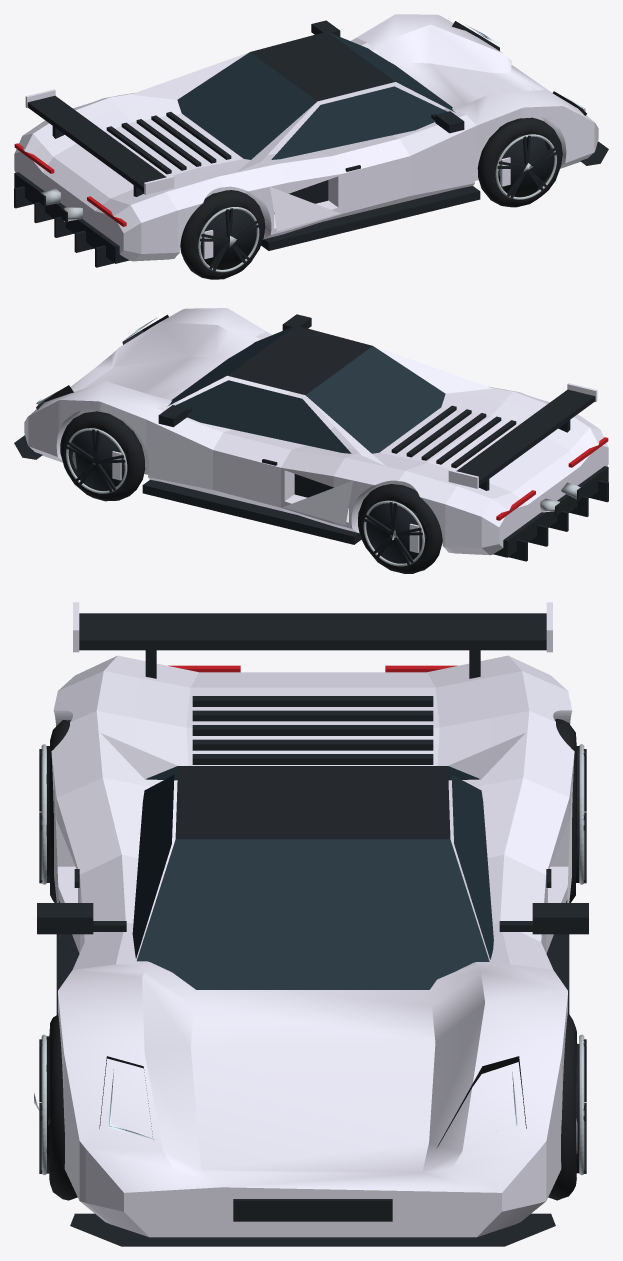
The model's file is riv4.glb.
3 renders of one model, top to bottom at view 1: azimuth 30°, elevation 25°; view 2: azimuth 150°, elevation 25°; view 3: azimuth 270°, elevation 25°, orthographic. The views are drawn at different scales.
Visible parts, largest first — view 1: 頂級工藝超跑_1; view 2: 頂級工藝超跑_1; view 3: 頂級工藝超跑_1.
Boxes of the visible parts, left/top/right/bottom form: 頂級工藝超跑_1: left=14, top=14, right=608, bottom=279; 頂級工藝超跑_1: left=14, top=308, right=608, bottom=573; 頂級工藝超跑_1: left=34, top=602, right=588, bottom=1246.
Bounding box in the file's own units: 4.78 × 1.15 × 2.26.
